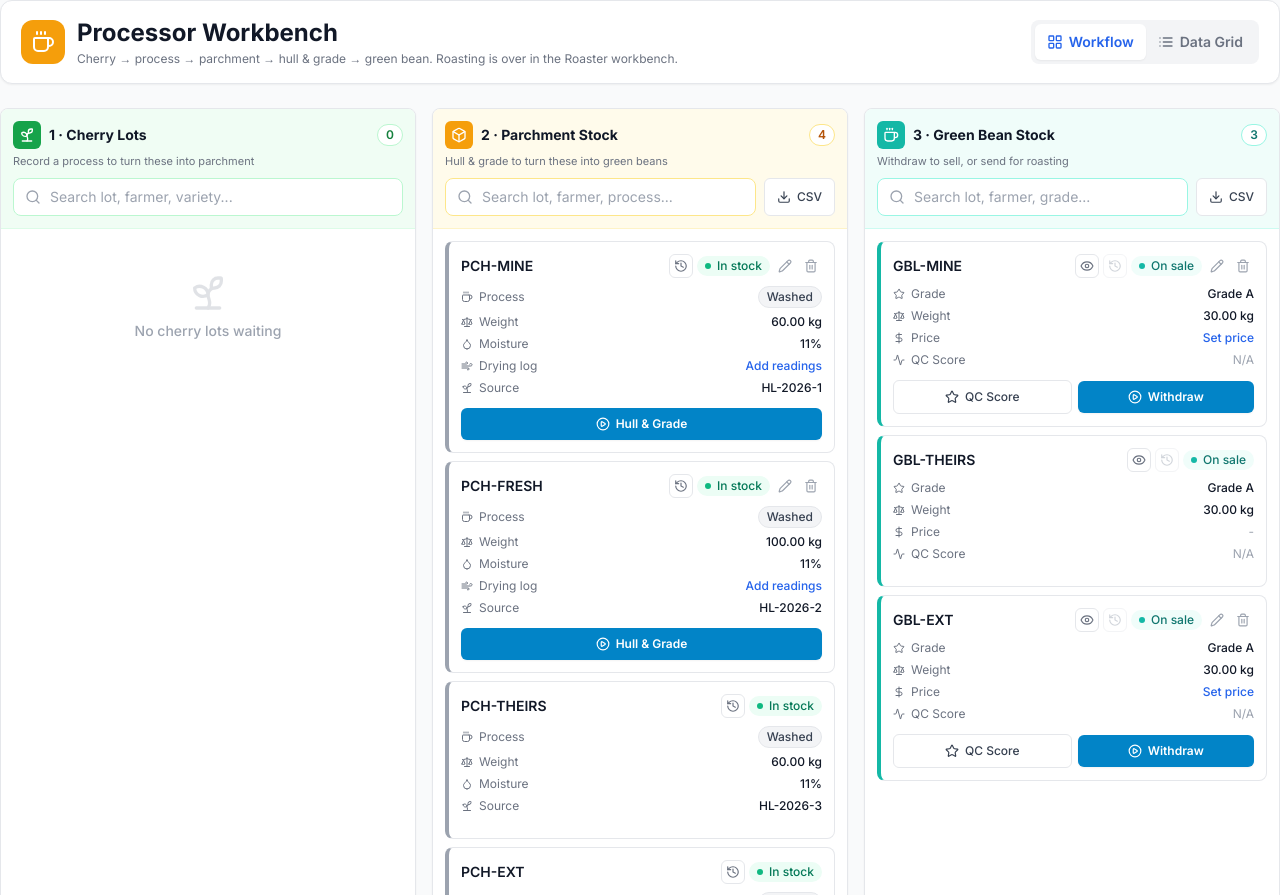
Test case: Workbench edit and delete (F24) › keeps everything when the backend refuses the delete with the counts
This screenshot has width=1280, height=895.
What coordinates should you click on to do the following:
click the button named "Delete parchment lot PCH-MINE"
I would click on:
 (811, 266)
Its box is [800, 254, 822, 276].
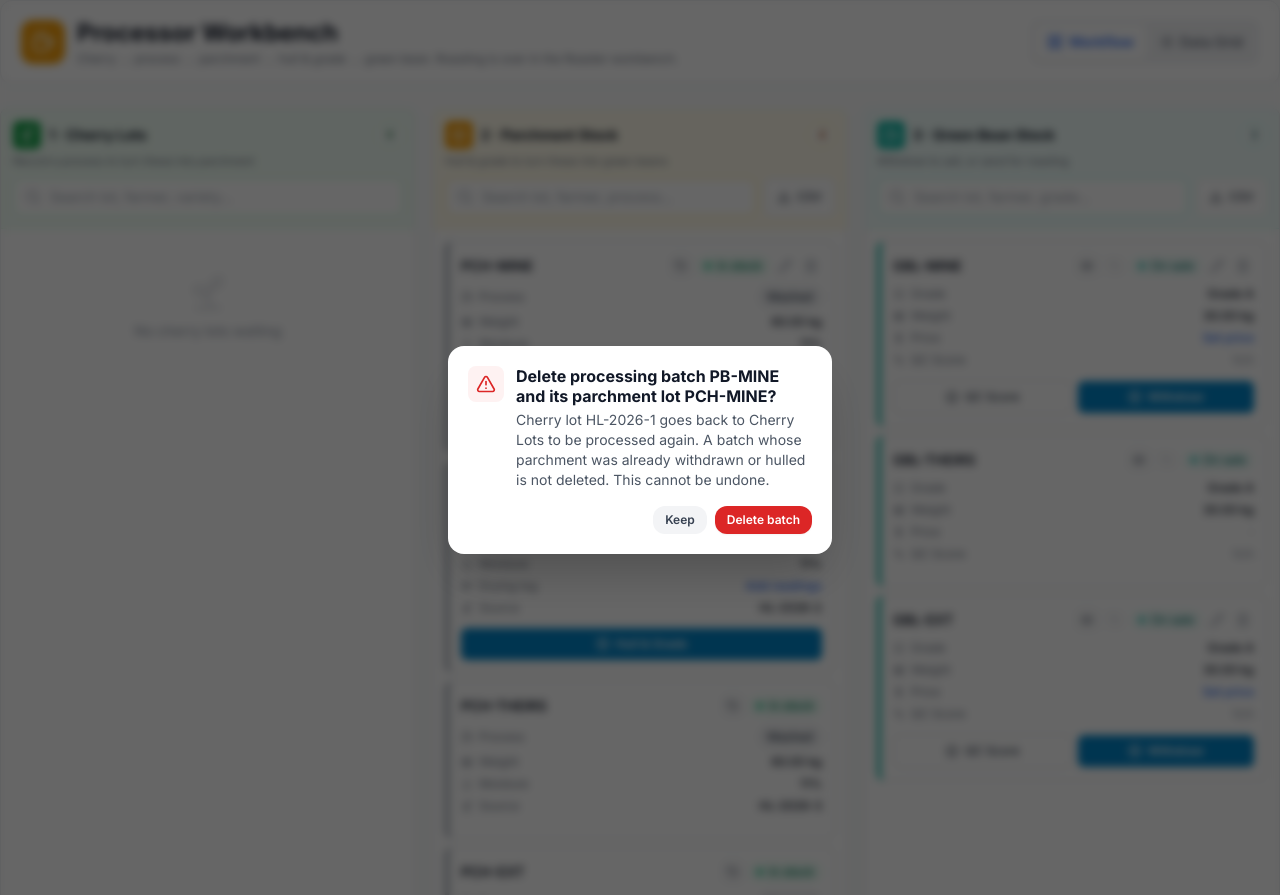
What coordinates should you click on to do the following:
click the button "Delete batch"
I would click on:
 (763, 520)
Its box is [715, 506, 812, 534].
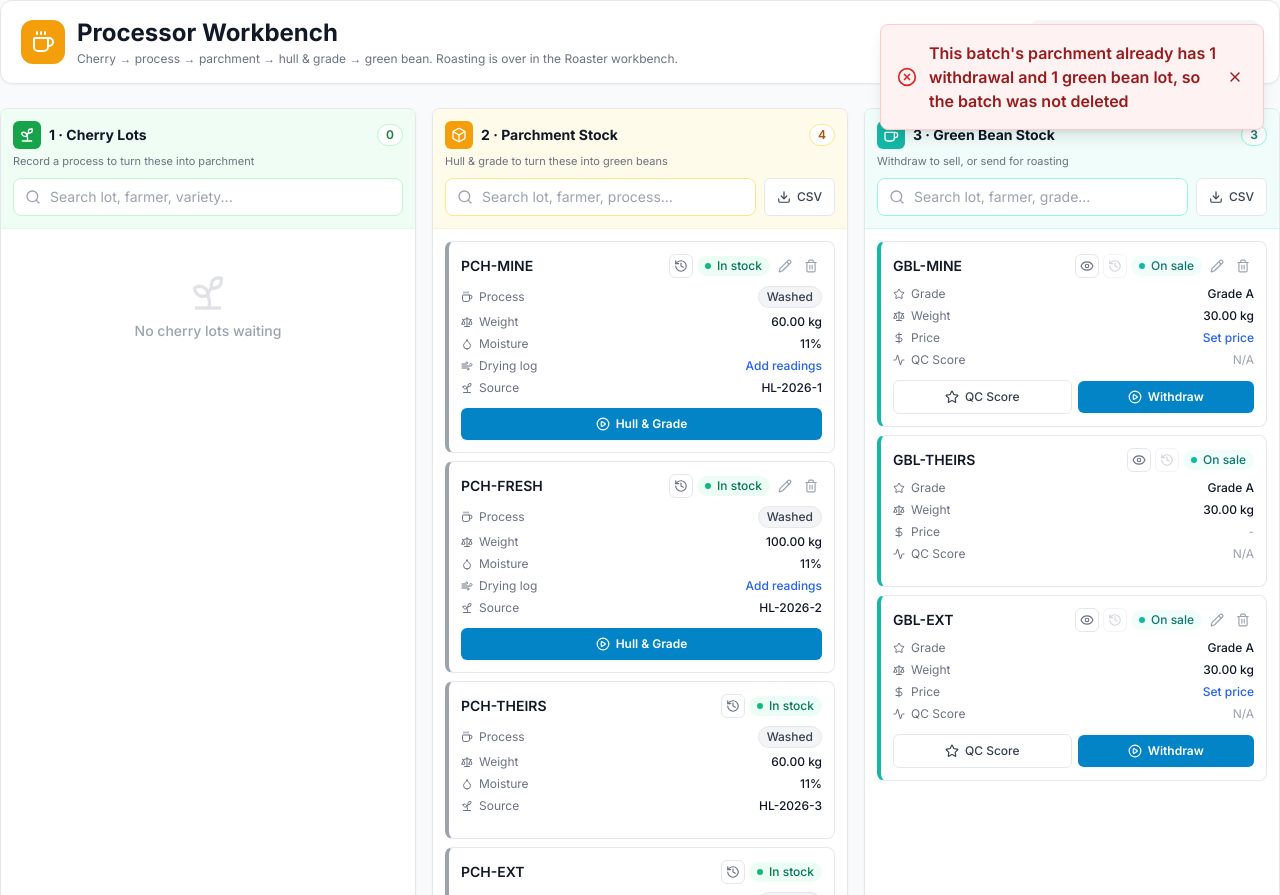
Expected: the button named "Edit parchment lot PCH-MINE" is shown, [774, 254, 796, 276]
Now the text "This batch's parchment already has 1 withdrawal and 1 green bean lot, so the batch was not deleted" is shown, box [929, 43, 1216, 111]
